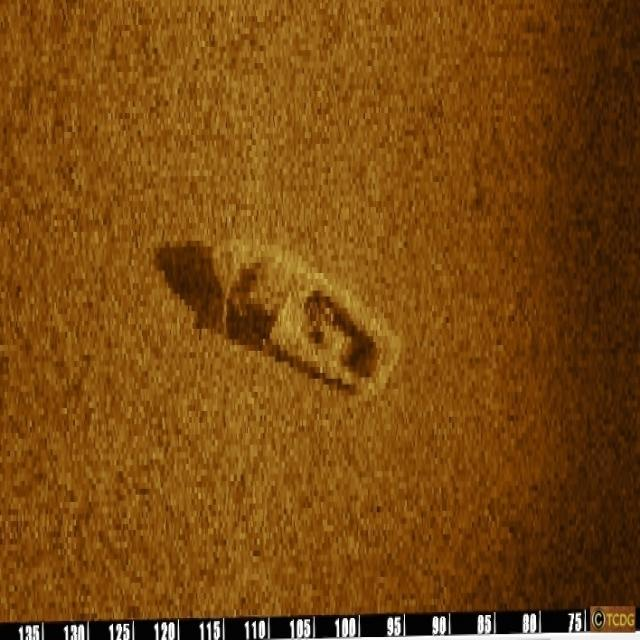shipwreck: (207, 235, 400, 401)
